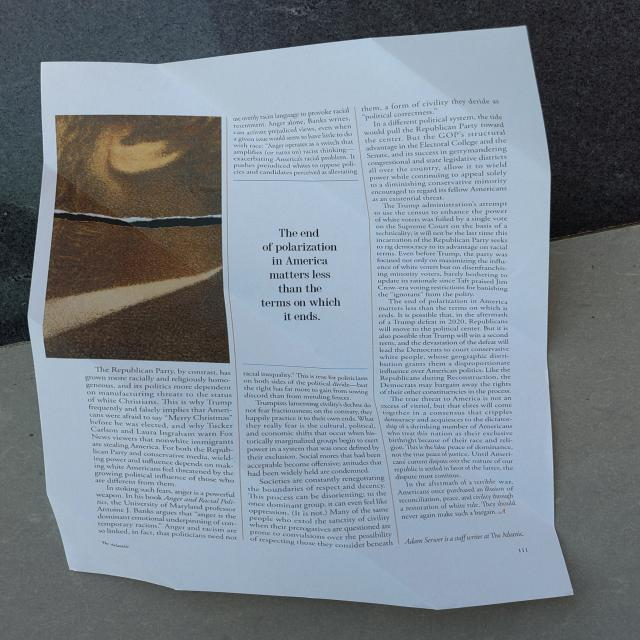document: (28, 28, 572, 609)
